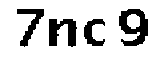7: (13, 3, 44, 51)
9: (113, 5, 153, 51)
c: (82, 17, 110, 51)
n: (44, 16, 81, 51)
